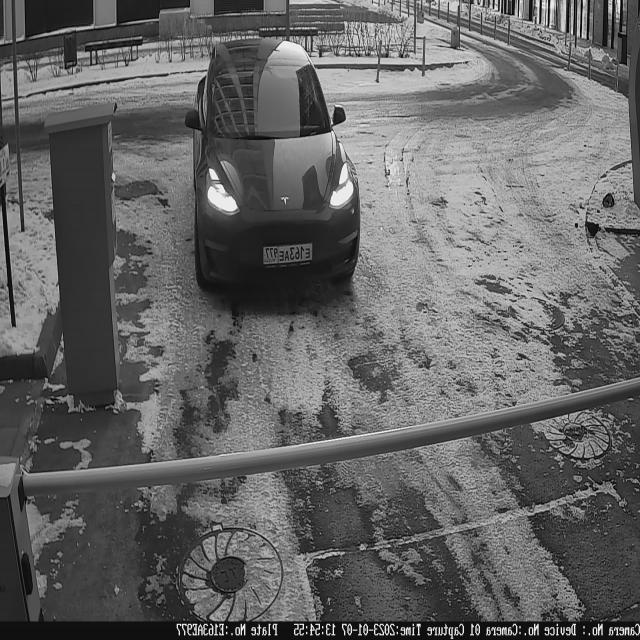car-plate-numbers: (261, 236, 318, 273)
